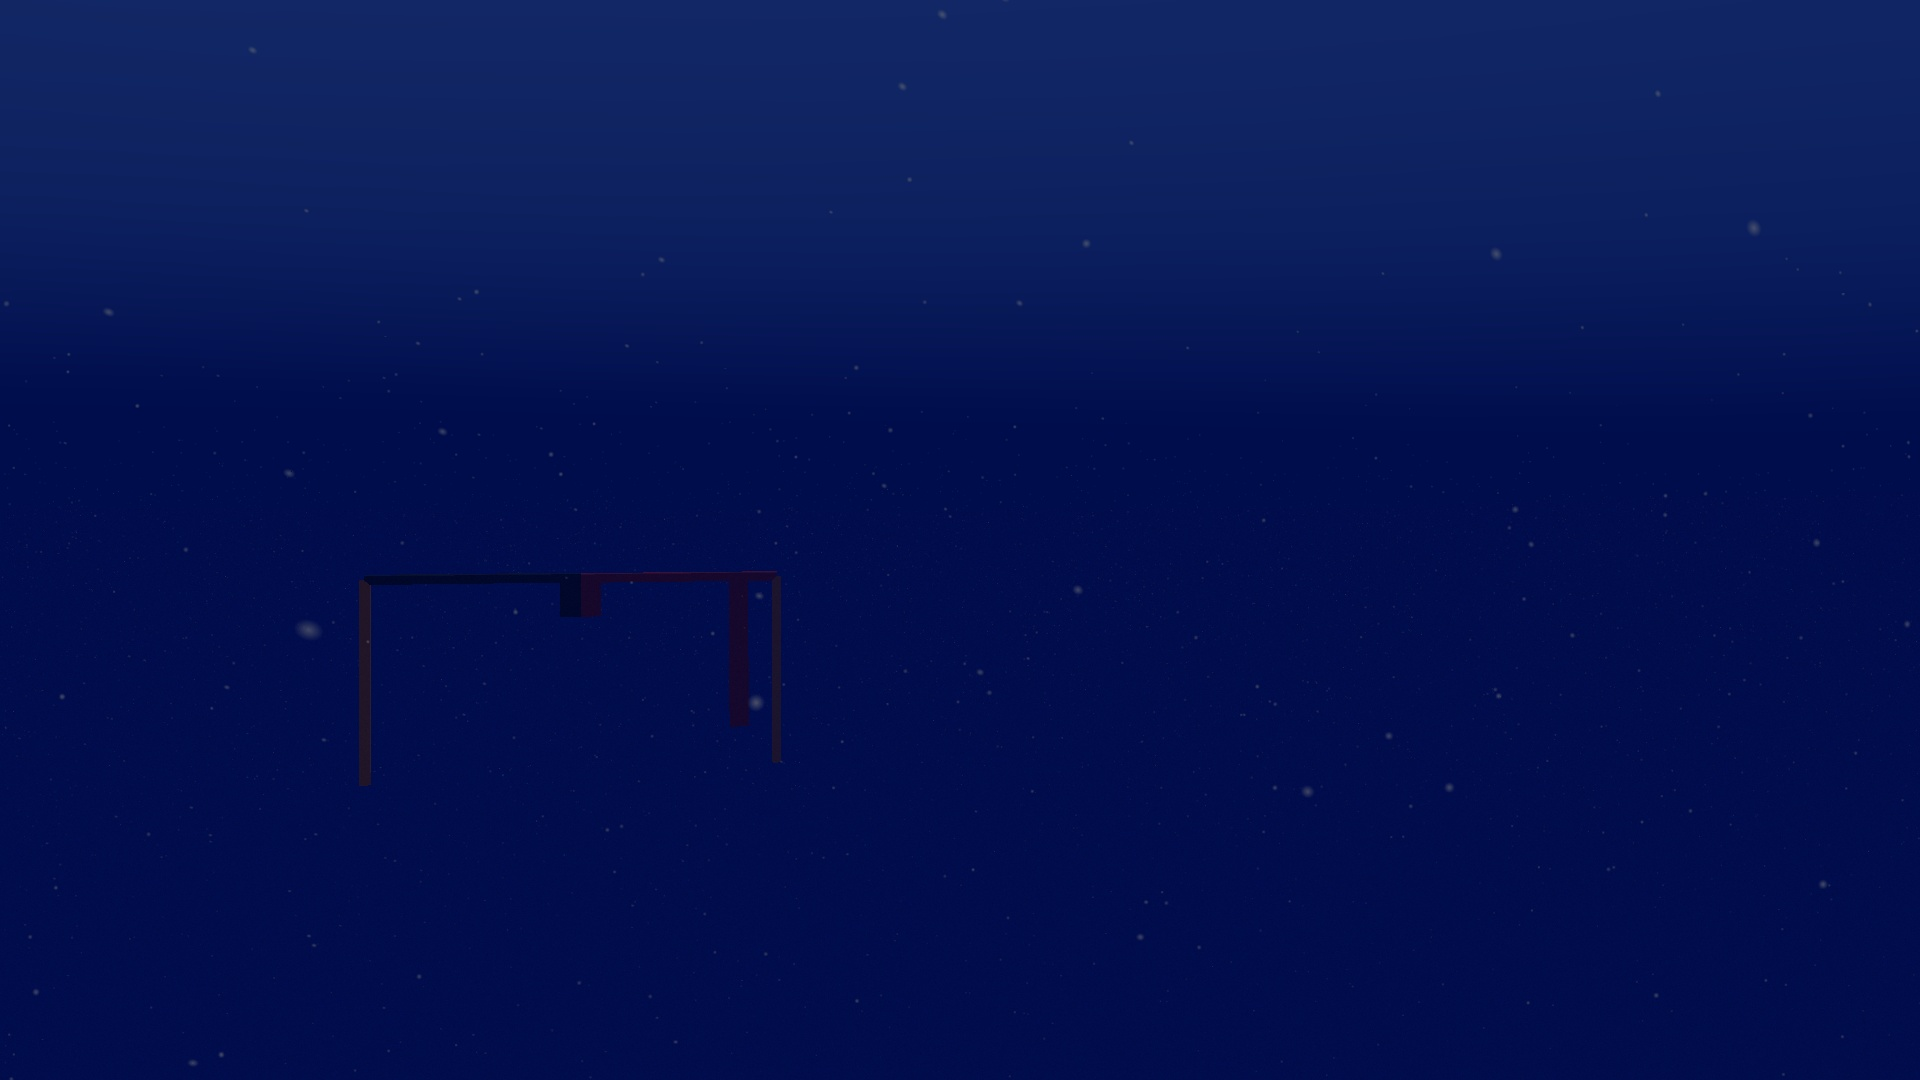Gate: (353, 564, 791, 793)
